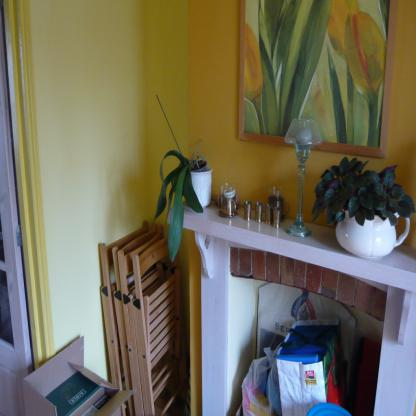vase: (334, 210, 411, 260)
